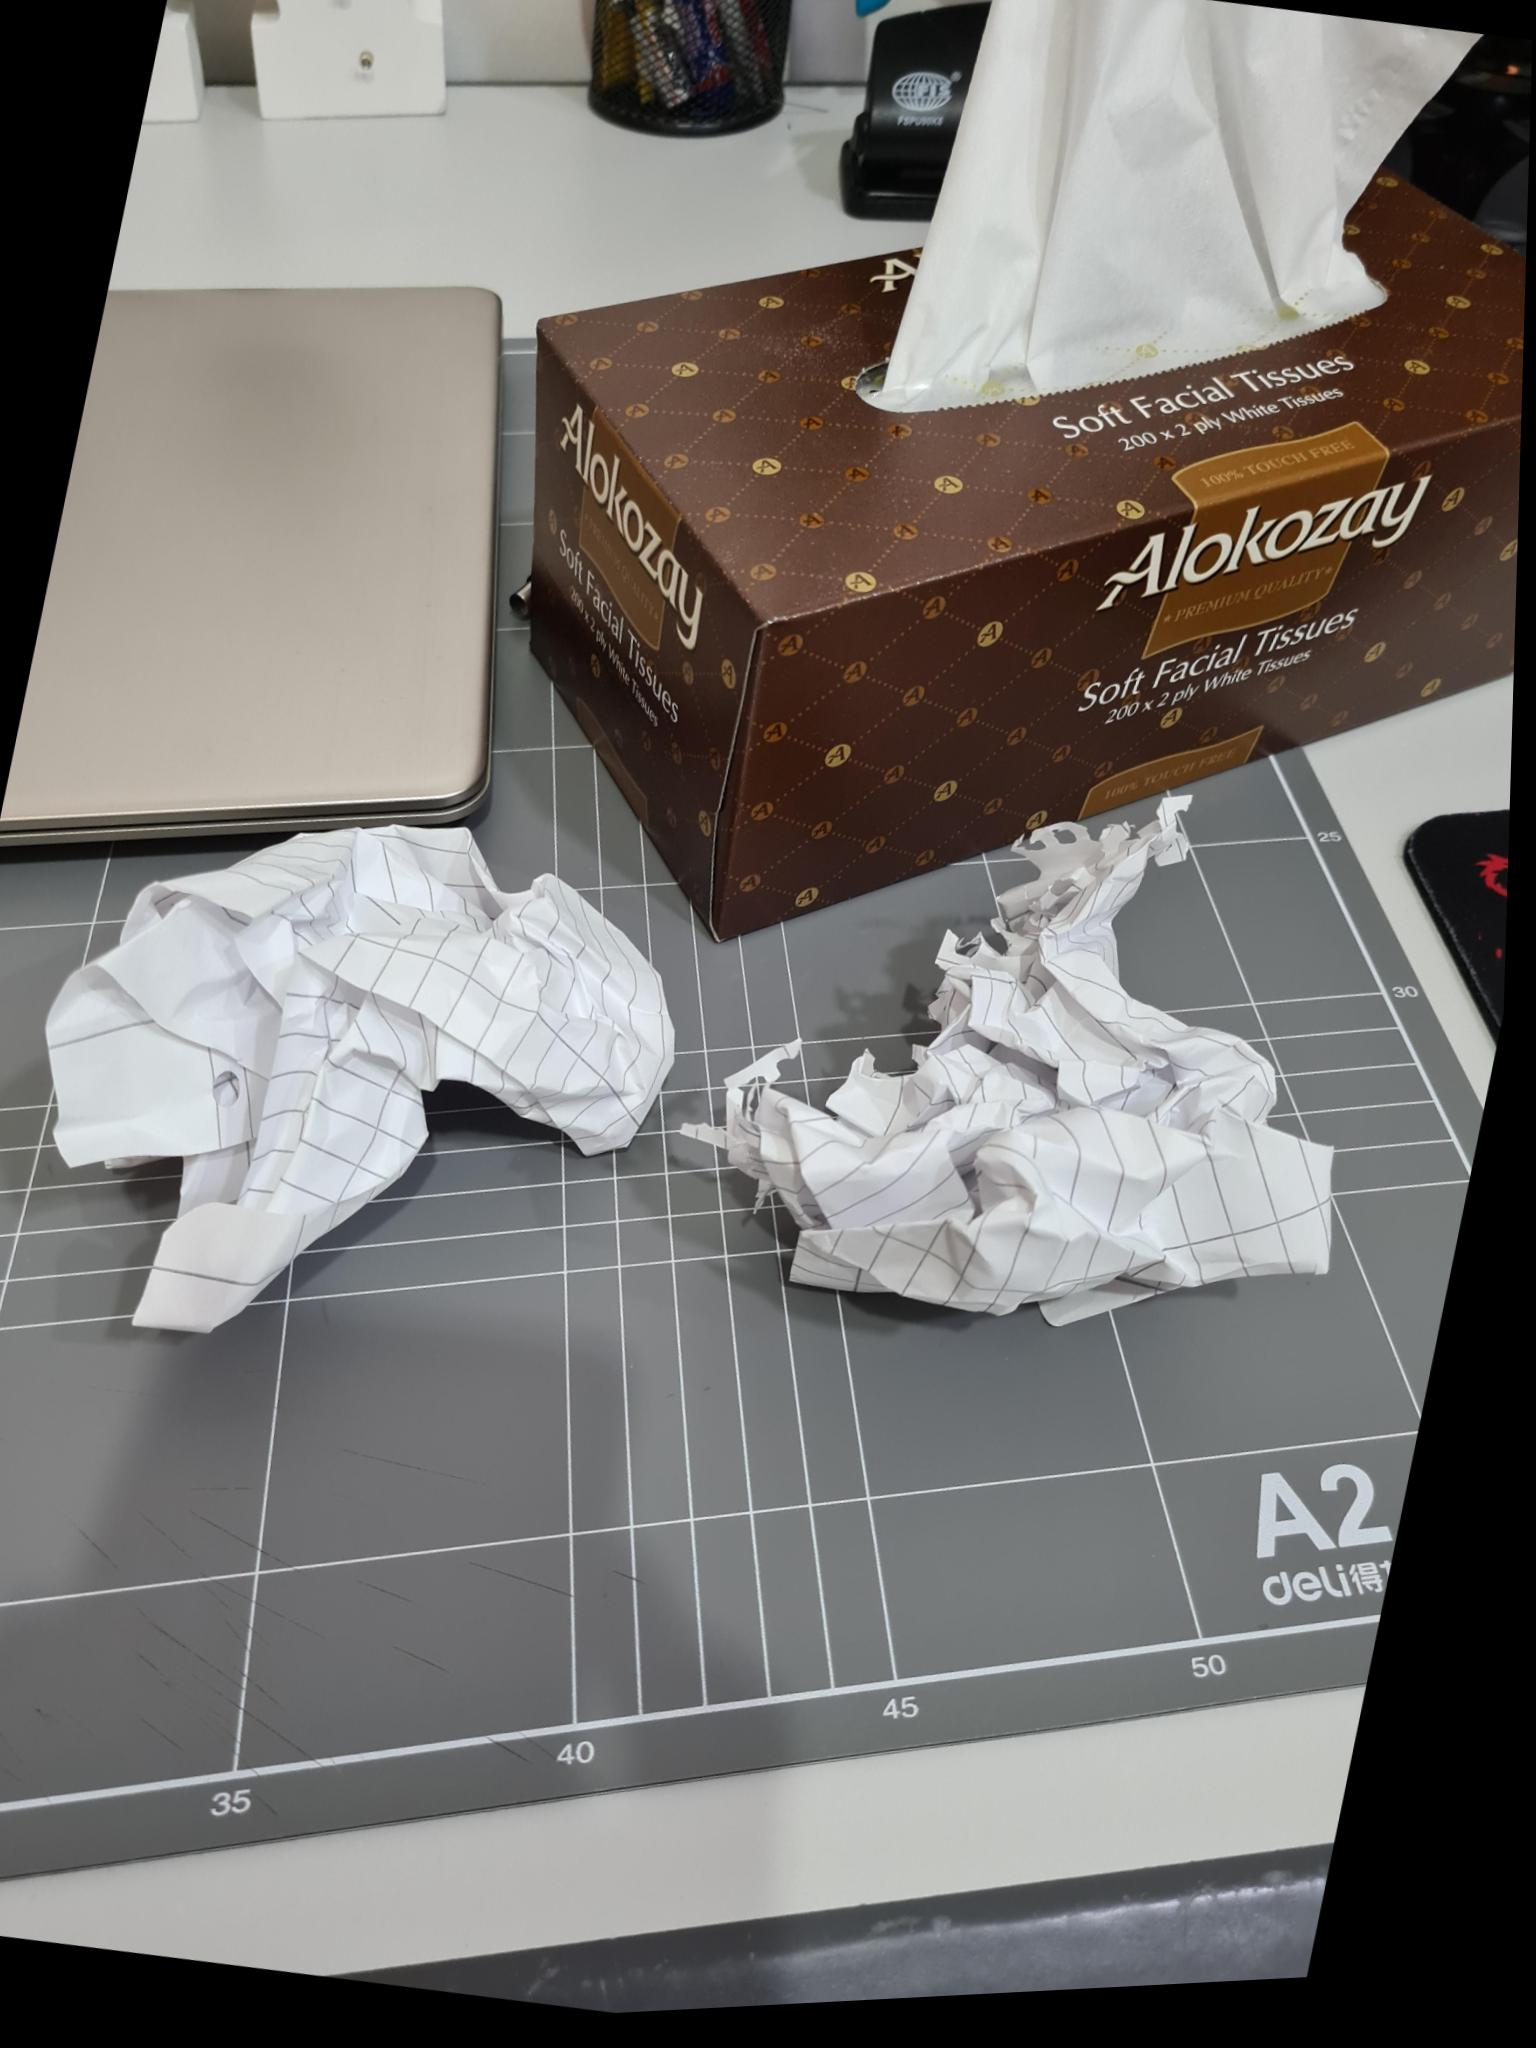metal: (589, 0, 791, 134)
paper: (682, 795, 1331, 1322), (47, 826, 673, 1330)
